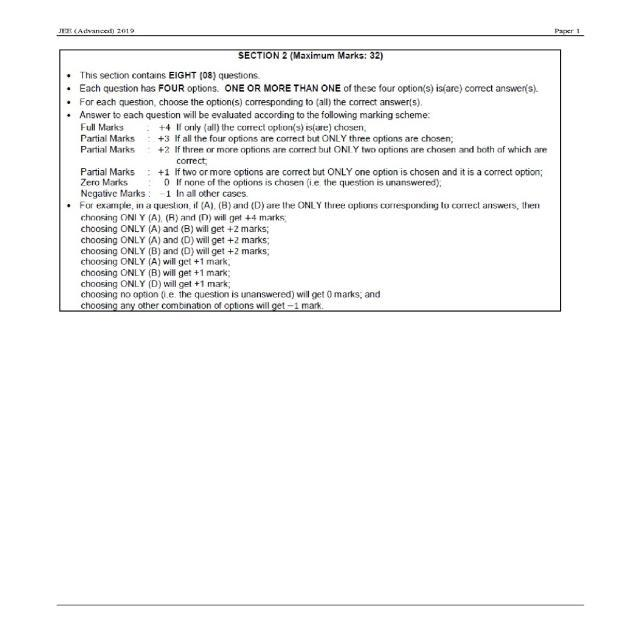Instruction: (28, 37, 610, 336)
Question_Paper_Area: (28, 37, 610, 336)
